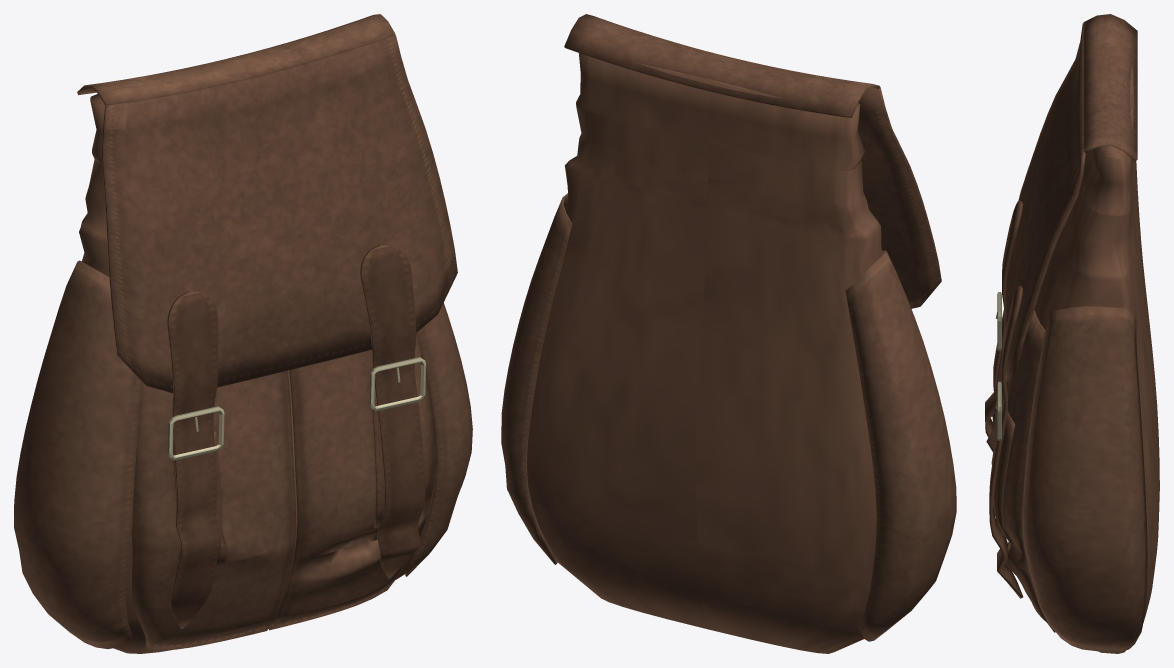
File: MillooNoZippers.glb
3 renders of one model, left to right at view 1: azimuth 30°, elevation 25°; view 2: azimuth 150°, elevation 25°; view 3: azimuth 270°, elevation 25°, orthographic. The views are drawn at different scales.
Visible parts, largest first — view 1: Milloo No Zippers Game Mesh; view 2: Milloo No Zippers Game Mesh; view 3: Milloo No Zippers Game Mesh.
Part boxes in pixels (left/top/right/bottom): Milloo No Zippers Game Mesh: left=14, top=14, right=472, bottom=653; Milloo No Zippers Game Mesh: left=501, top=14, right=956, bottom=653; Milloo No Zippers Game Mesh: left=985, top=14, right=1159, bottom=653.
Size of the model in its own units: 0.9344 by 1.19 by 0.3613.
1 material, 1 textured.
